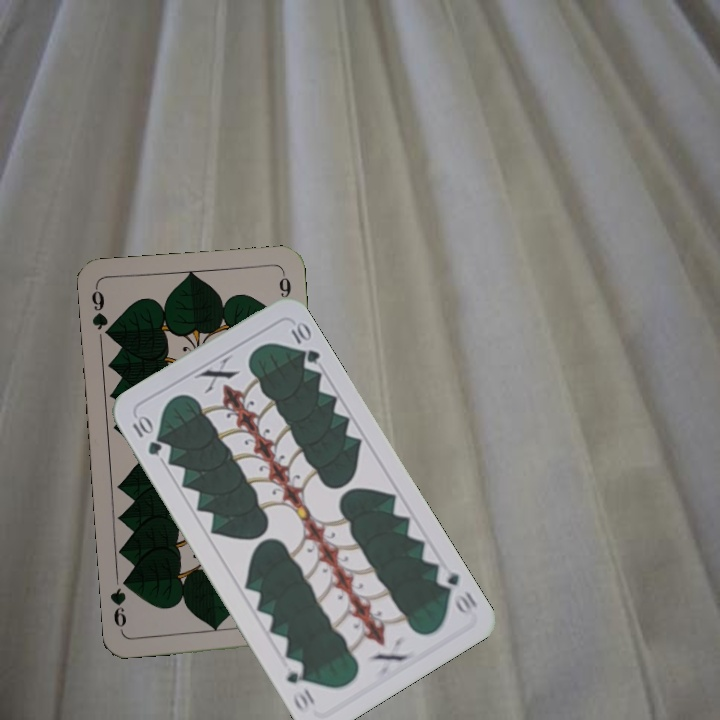G10: (432, 562, 481, 617), (128, 411, 165, 458)
G9: (87, 284, 115, 342)
